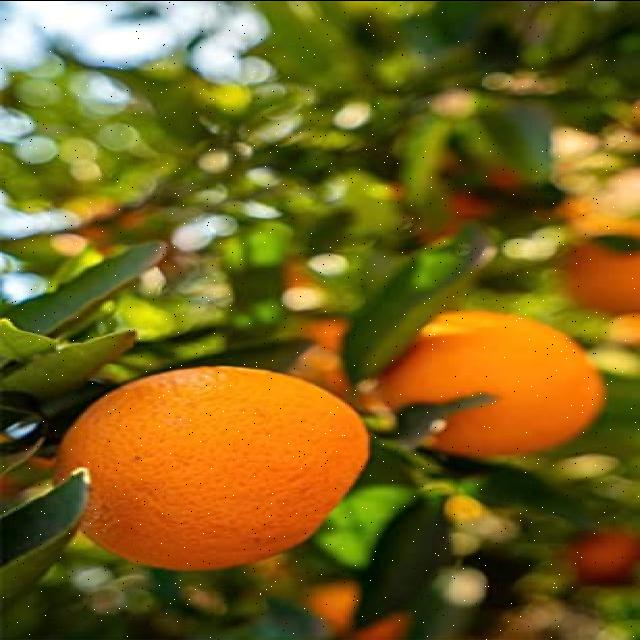Orange: (51, 363, 370, 572)
